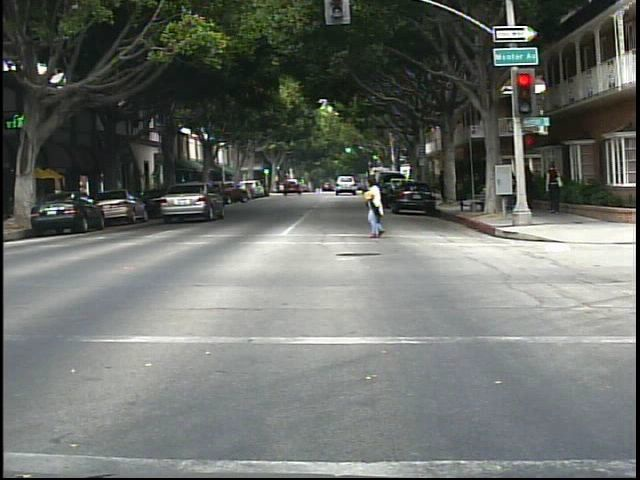person: (360, 174, 396, 242), (544, 159, 567, 219), (521, 158, 541, 216)
